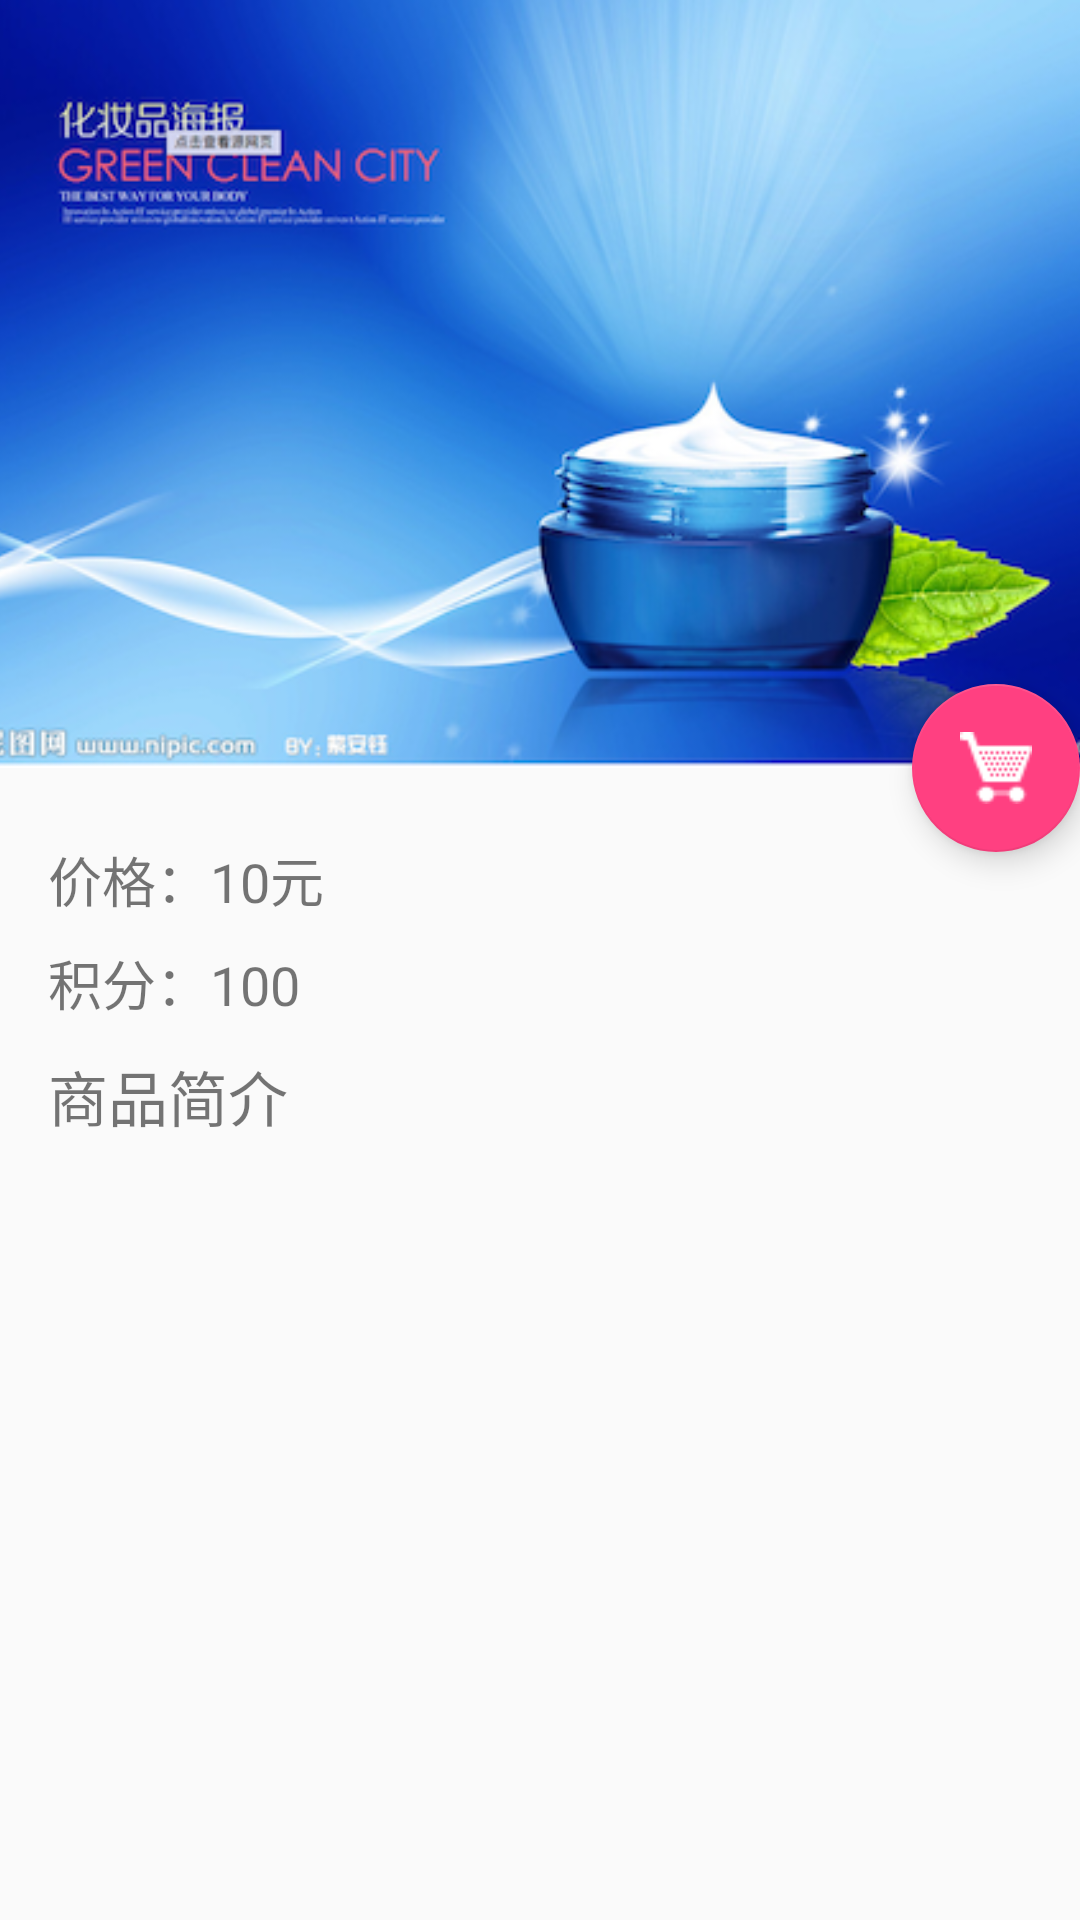

Named icons in this screenshot (1080 × 1920) and their centers, [x,y]:
shopping cart: [996,768]
